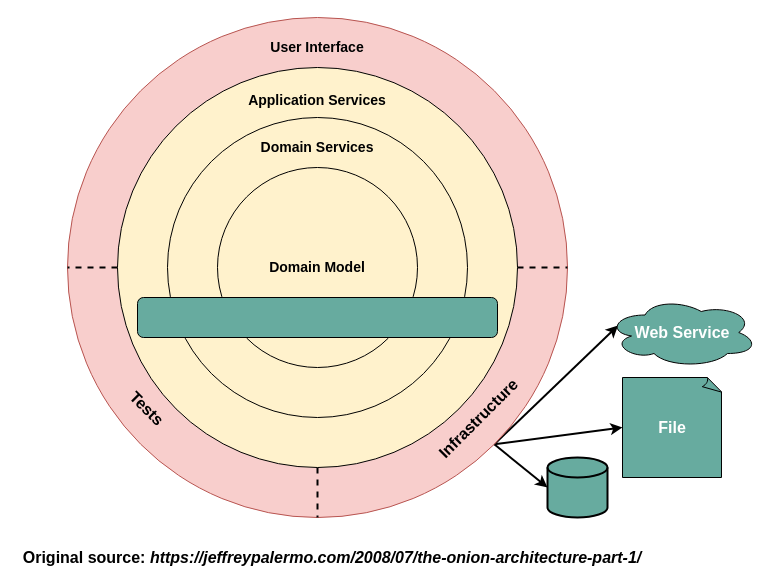
The diagram is 775 pixels wide and 585 high, and some of its shapes have lost their labels. Here are the shapes that lost their labels. From the top down, the centre of each, then its label:
At (317,317): "Application Core".
At (577,487): "DB".
